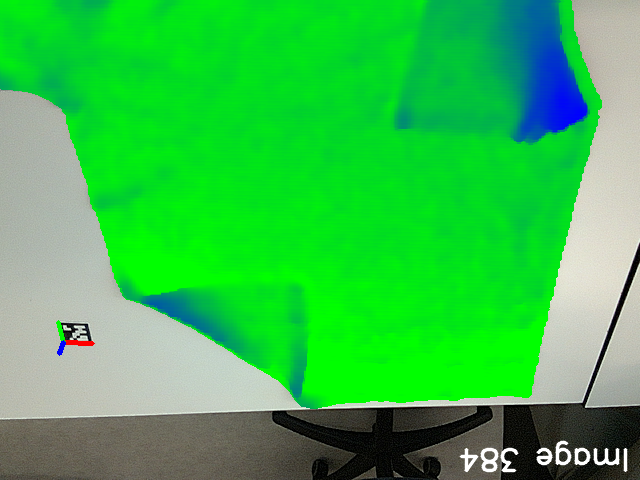V: (258, 265, 320, 318), (381, 93, 432, 140)
